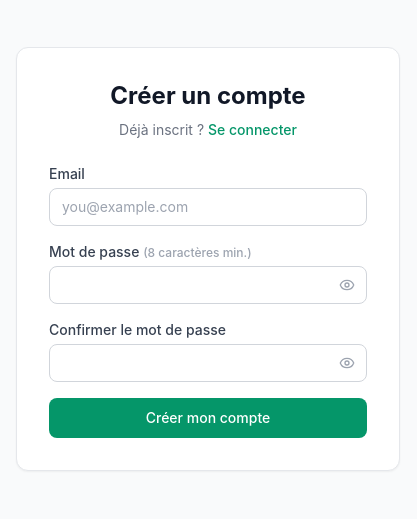
RegisterPage › shows error message on Supabase failure
Type "existing@example.com" into the field labelled "Email" at (208, 207), box [49,188,367,226]
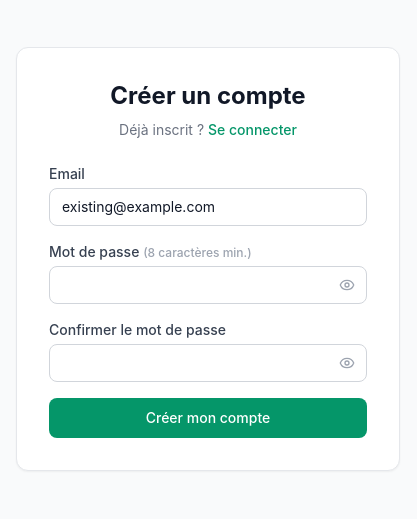
Type "pass12345" into the password field labelled "Mot de passe (8 caractères min.)" at (208, 285), box [49,266,367,304]
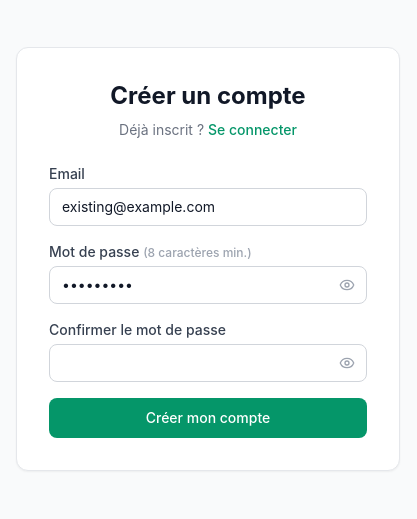
Type "pass12345" into the password field labelled "Confirmer le mot de passe" at (208, 363), box [49,344,367,382]
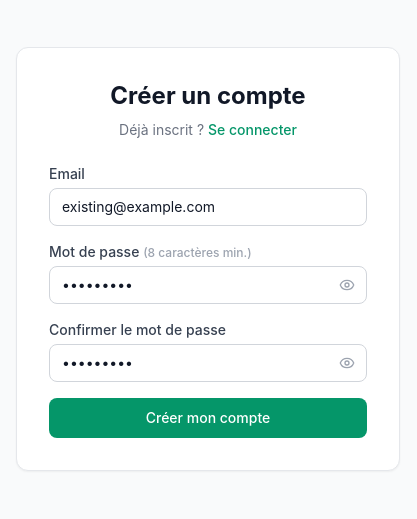
Click the button "Créer mon compte" at (208, 418), box [49,398,367,438]
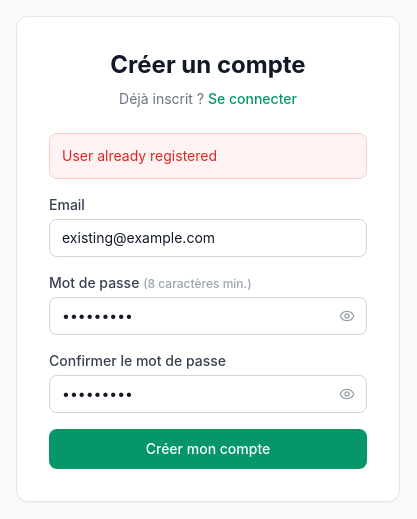
Now the text "User already registered" is shown, box [49,133,367,179]
